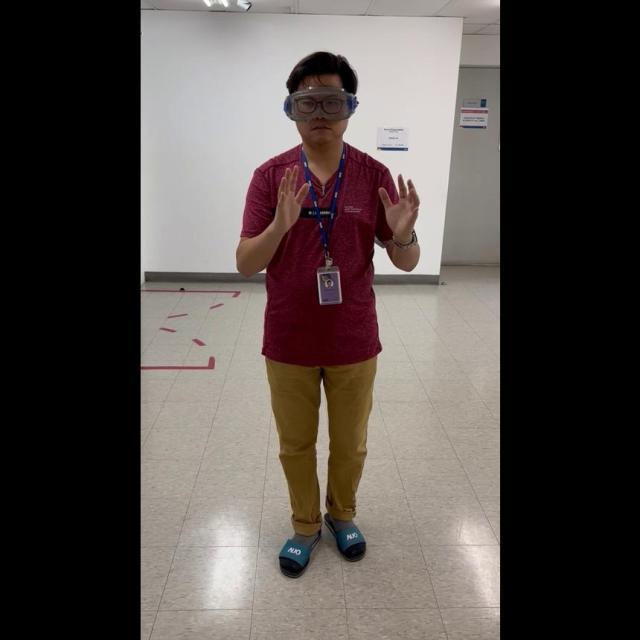bare_hand: (378, 167, 420, 242), (268, 164, 310, 231)
